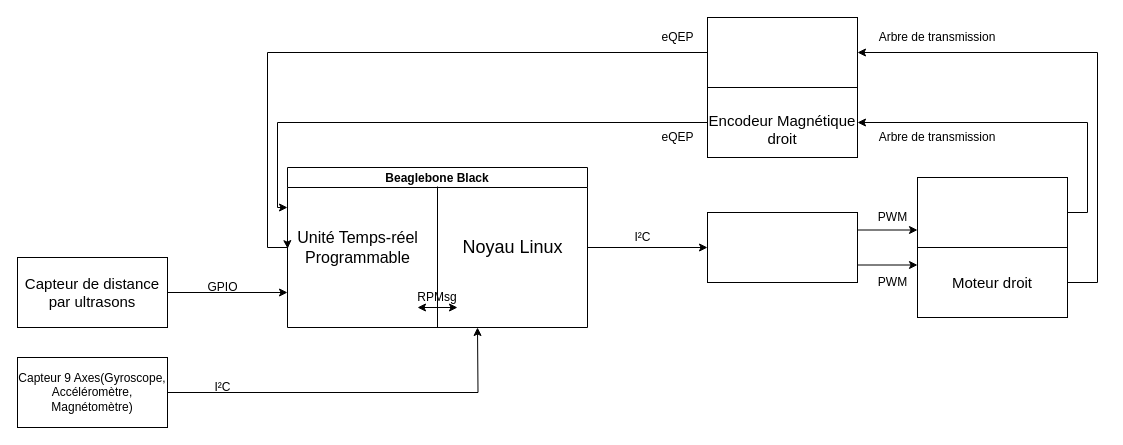
Some shapes in this 1123 by 445 pixel diagram are drawn without their labels. The centre of each missing label's shape, as x and y in pixels:
Carte Pilote pour moteurs: point (782, 247)
Encodeur Magnétique gauche: point (782, 52)
Moteur gauche: point (992, 212)
